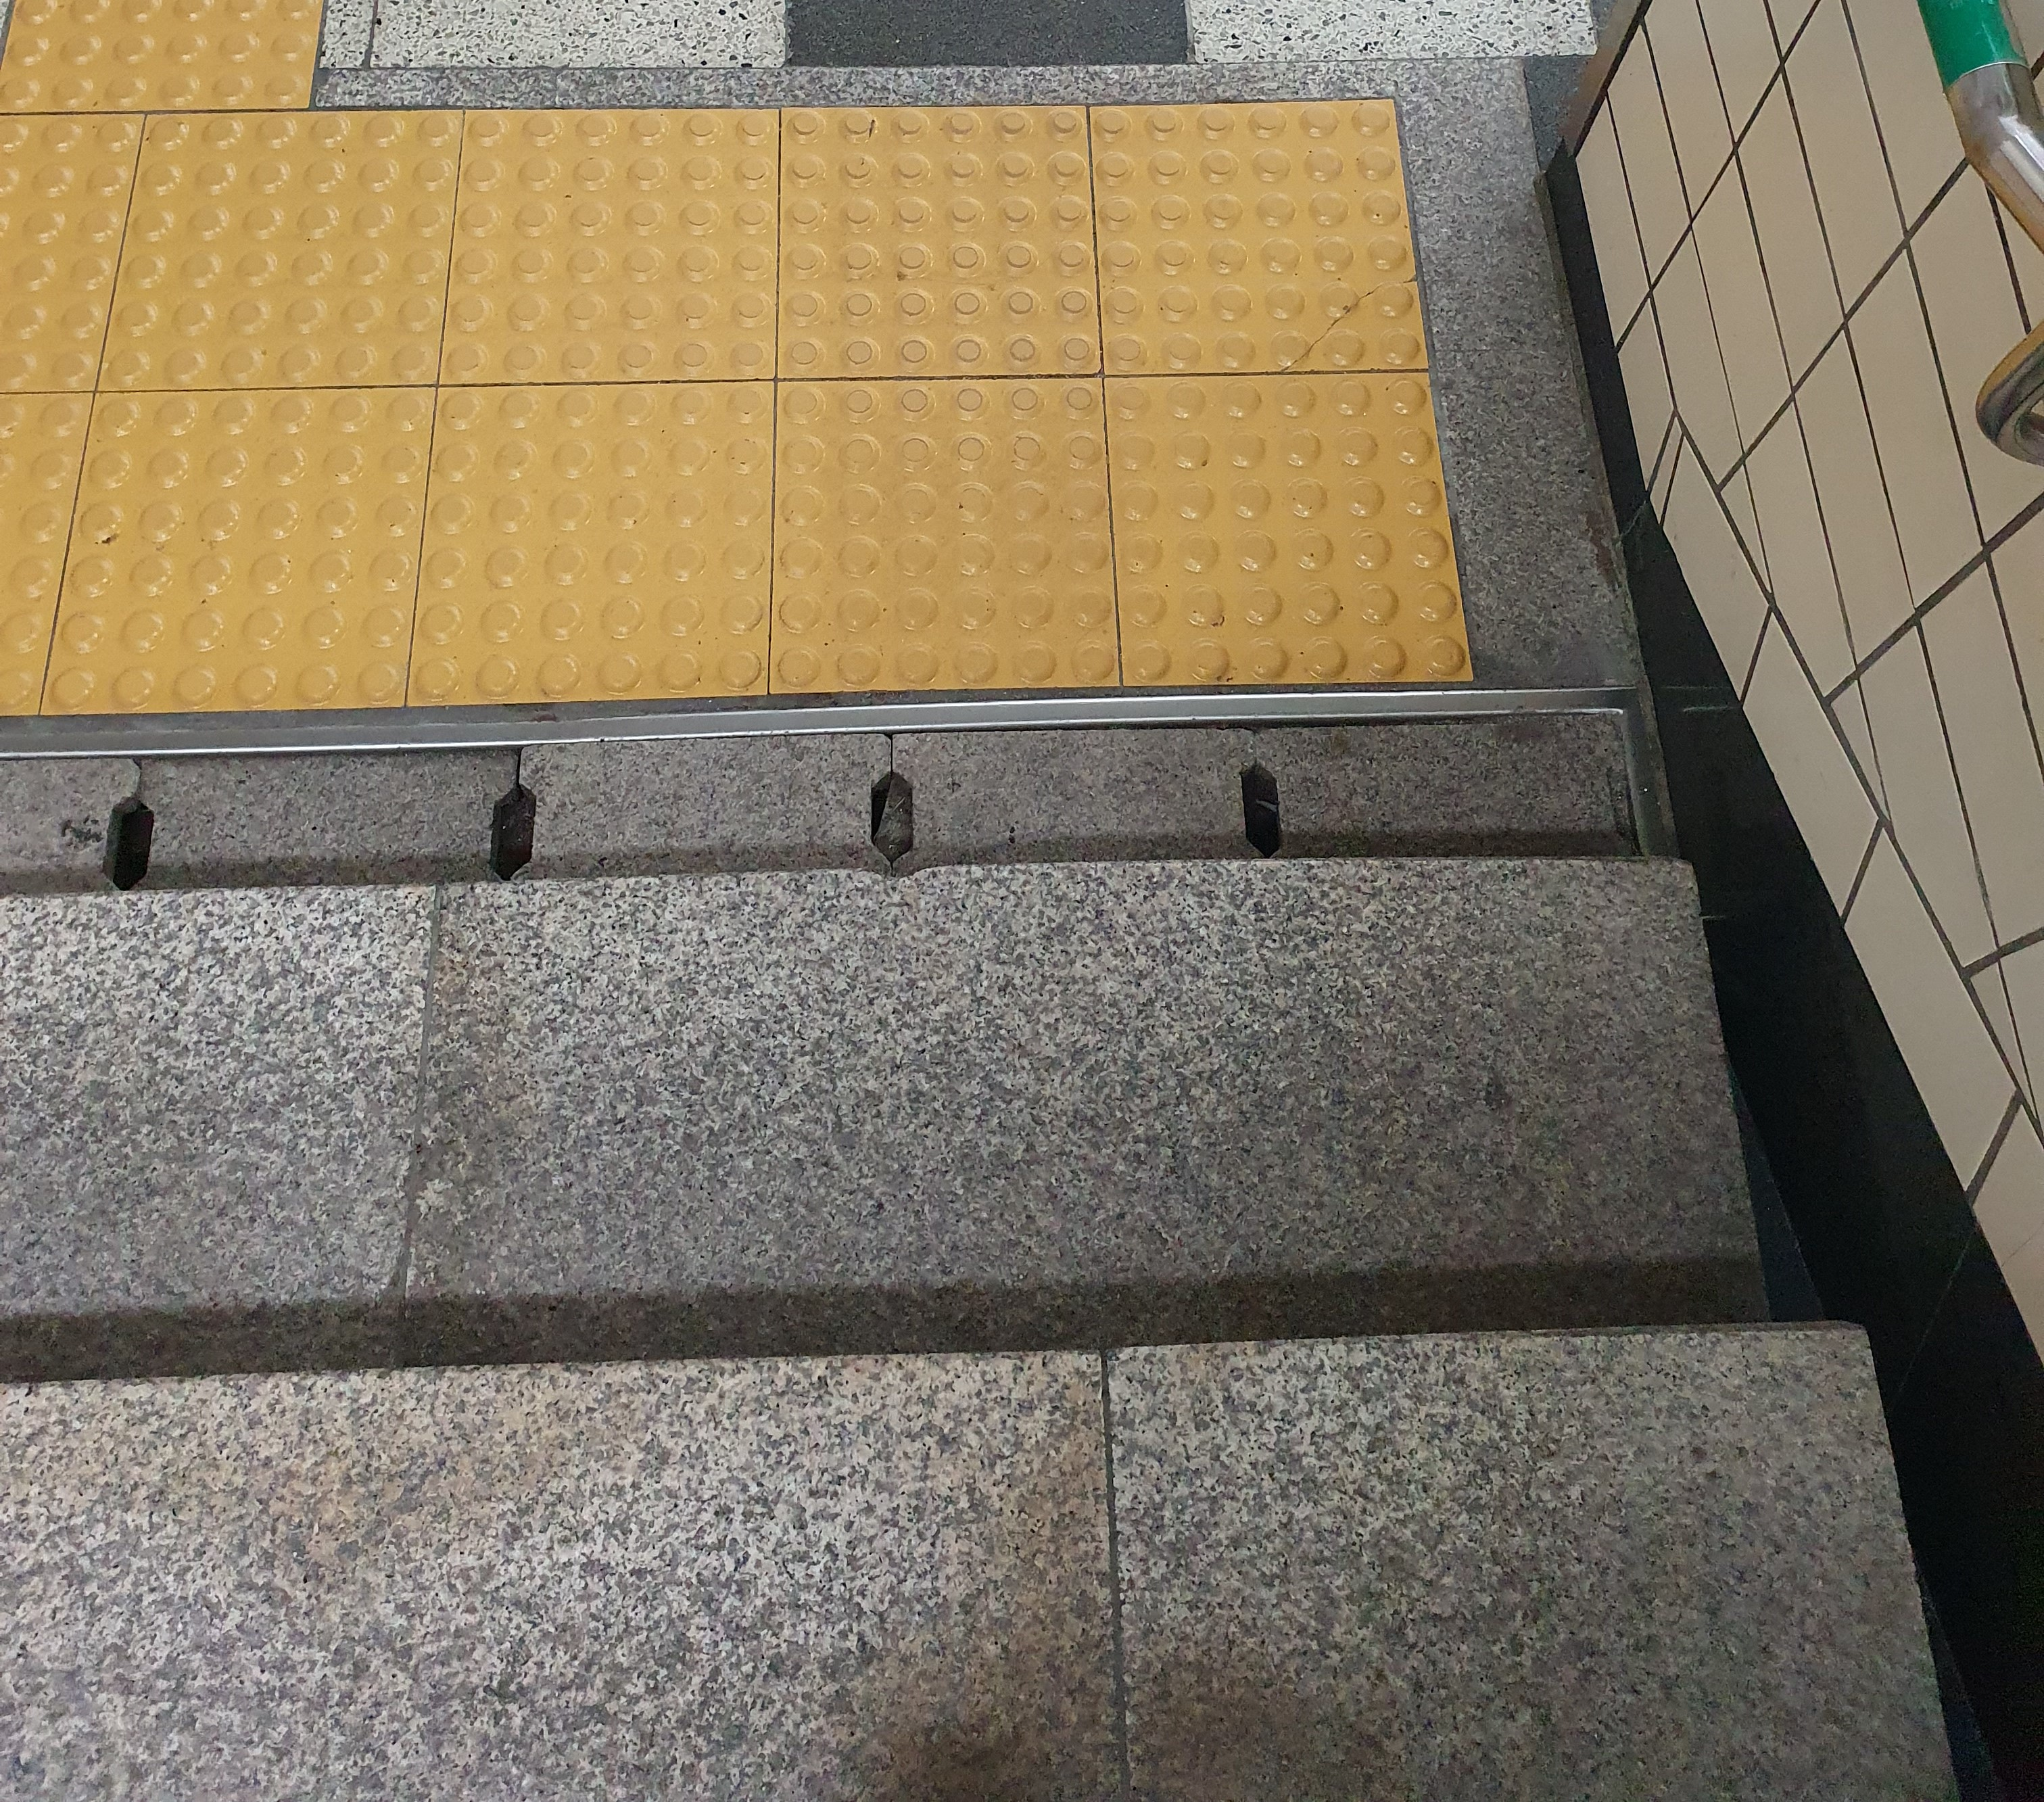warningBlock: (386, 381, 786, 689), (792, 379, 1169, 704), (1092, 384, 1482, 678), (132, 390, 480, 718), (771, 99, 1120, 386), (464, 150, 828, 414), (129, 122, 491, 360), (1112, 110, 1407, 393), (5, 414, 183, 689), (5, 122, 134, 398), (23, 17, 308, 123)
